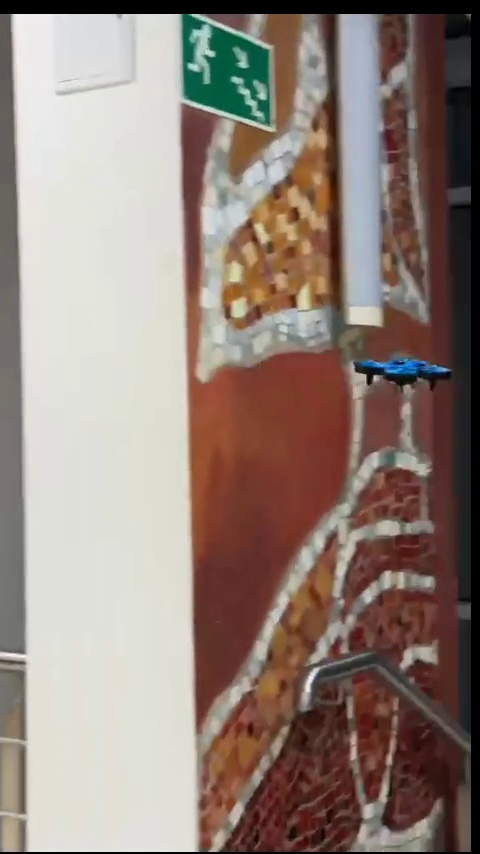drone: (352, 358, 451, 387)
